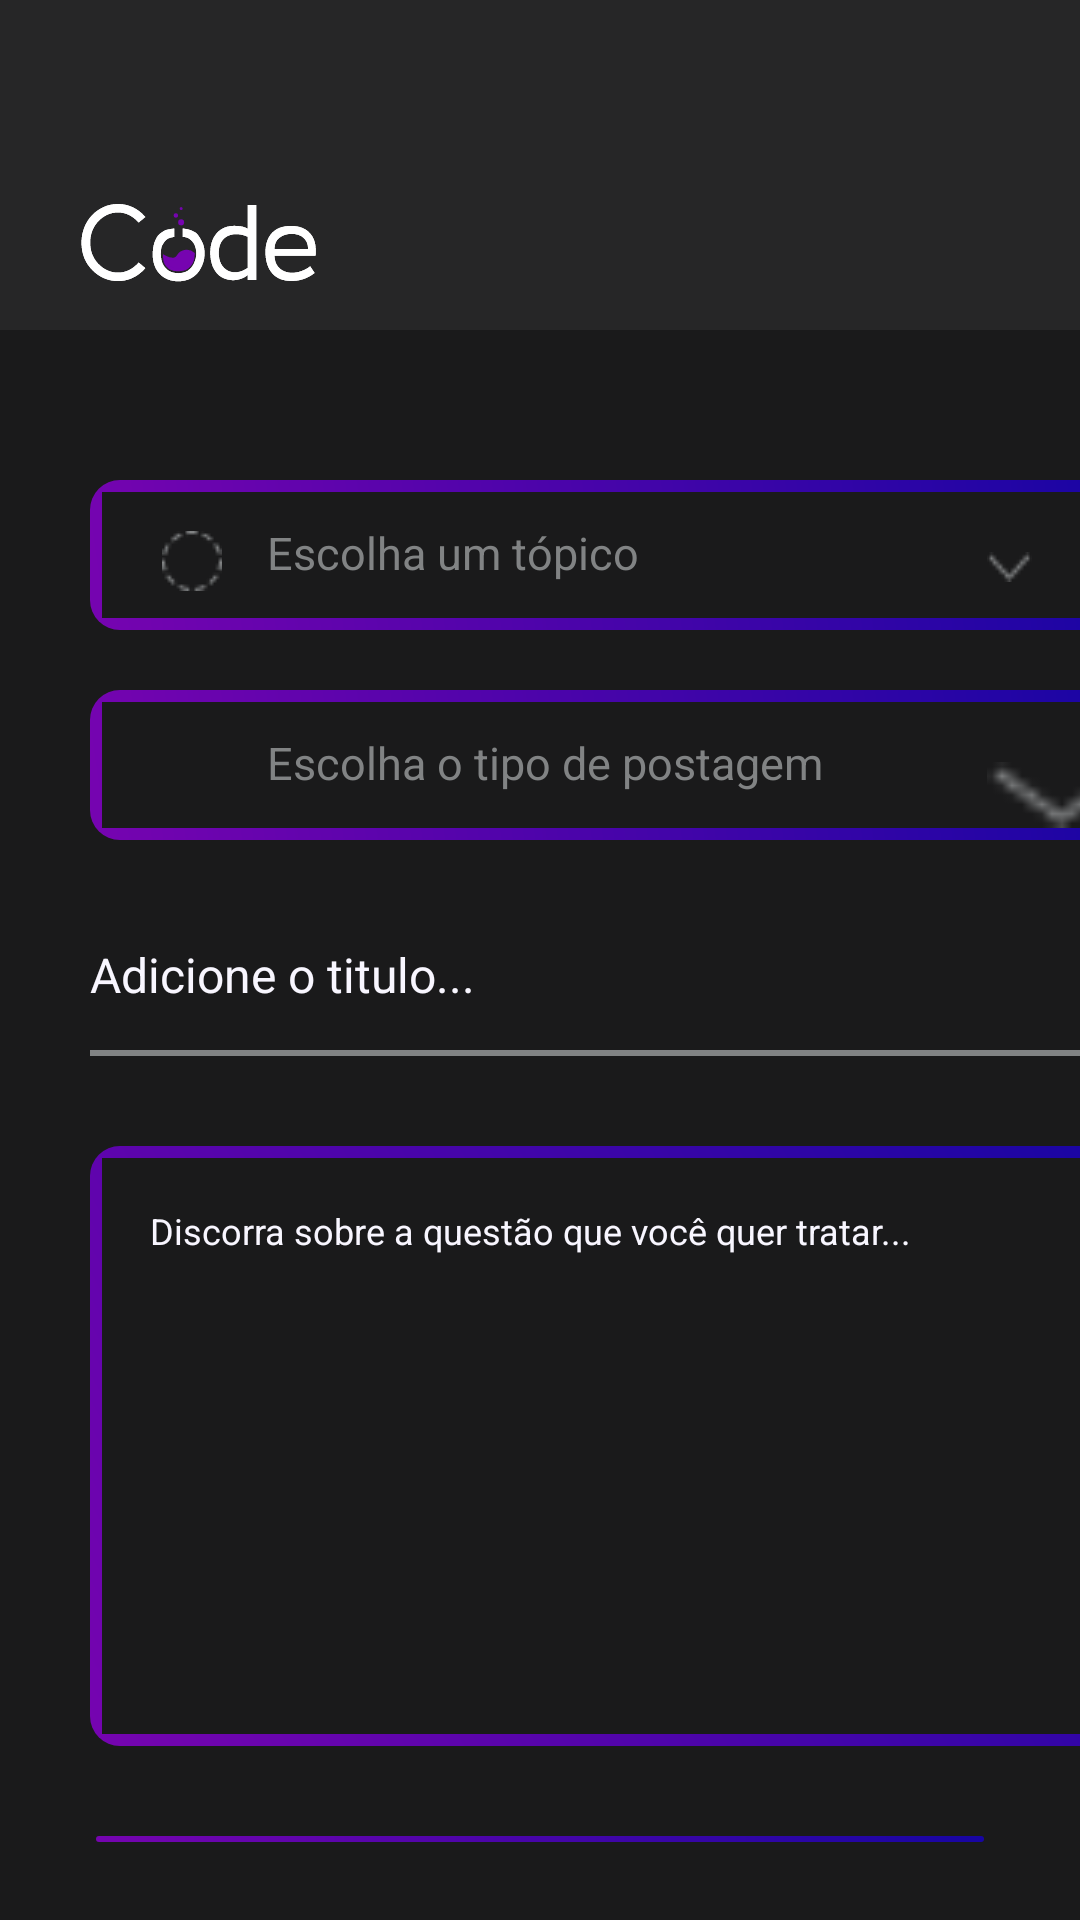

Where icons sit on this 1080 × 1920 app screen, as {"left": x1, "top": y1, "right": x2, "bottom": y2}:
circulo: {"left": 162, "top": 531, "right": 222, "bottom": 591}
seta: {"left": 989, "top": 554, "right": 1030, "bottom": 582}
